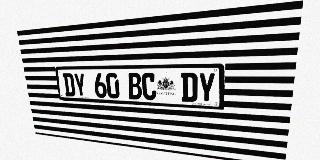0: (105, 73, 120, 99)
6: (93, 73, 107, 98)
B: (127, 73, 142, 100)
C: (141, 73, 157, 100)
D: (181, 73, 197, 102), (62, 73, 76, 97)
Y: (198, 73, 216, 103), (73, 73, 87, 97)
